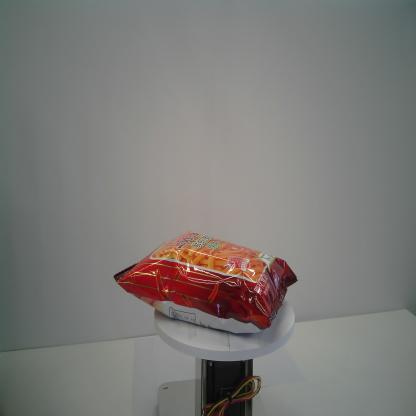Puffed Food: (112, 230, 298, 335)
